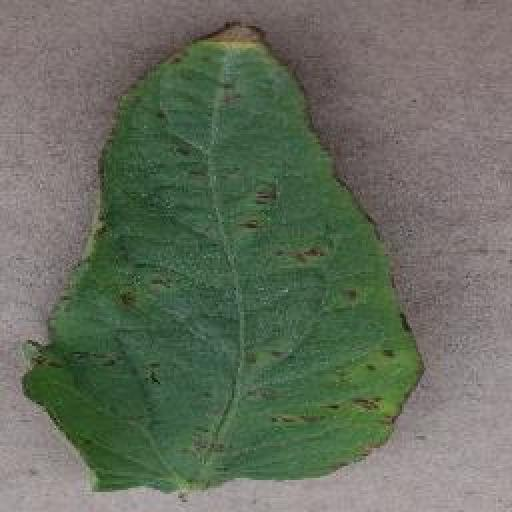Bacterial Spot: (16, 15, 427, 500)
